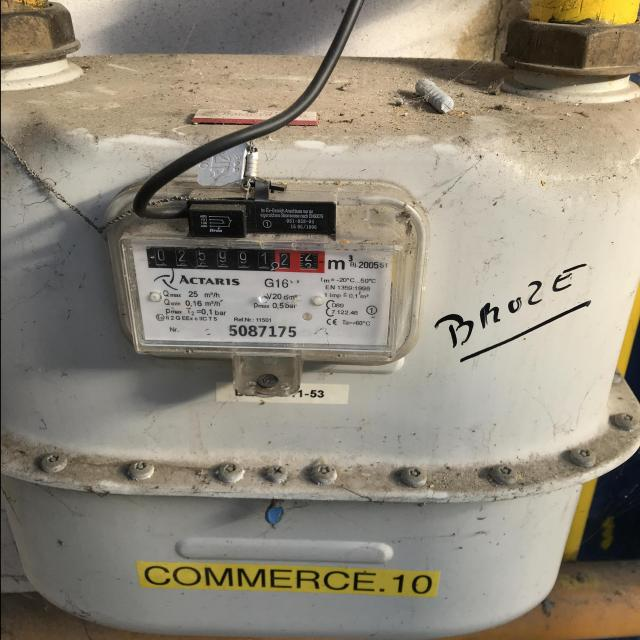gaz_meter: (117, 230, 396, 355)
indication: (146, 247, 326, 273)
